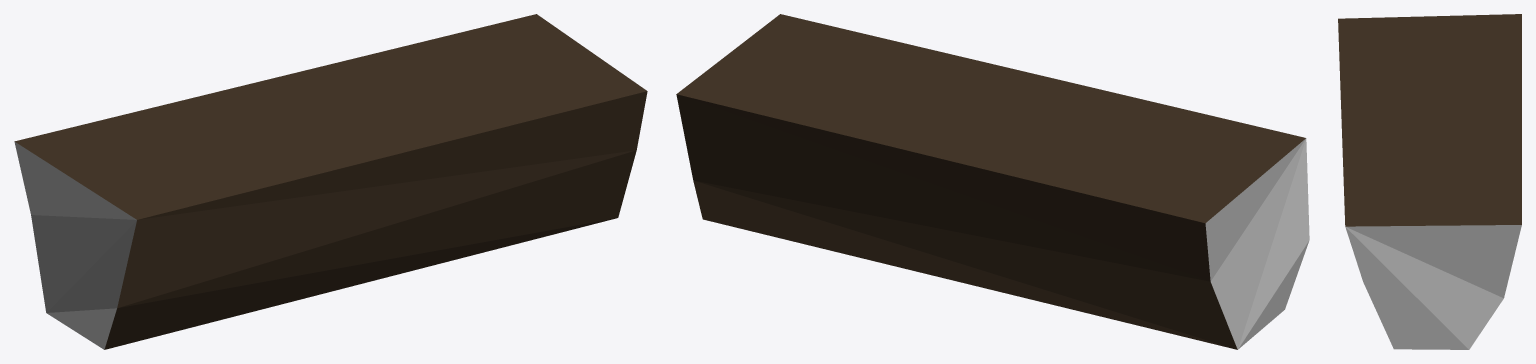
The model's file is BENCH_1_OC.OBJ.
3 renders of one model, left to right at view 1: azimuth 30°, elevation 25°; view 2: azimuth 150°, elevation 25°; view 3: azimuth 270°, elevation 25°, orthographic. The views are drawn at different scales.
Parts seen in each view (by area): view 1: BENCH_1_OC; view 2: BENCH_1_OC; view 3: BENCH_1_OC.
Part boxes in pixels (box(x1,y1,x2,y2)): BENCH_1_OC: box(14, 14, 647, 349); BENCH_1_OC: box(676, 14, 1309, 349); BENCH_1_OC: box(1338, 14, 1521, 349).
Size of the model in its own units: 1.87 by 0.503 by 0.6833.
